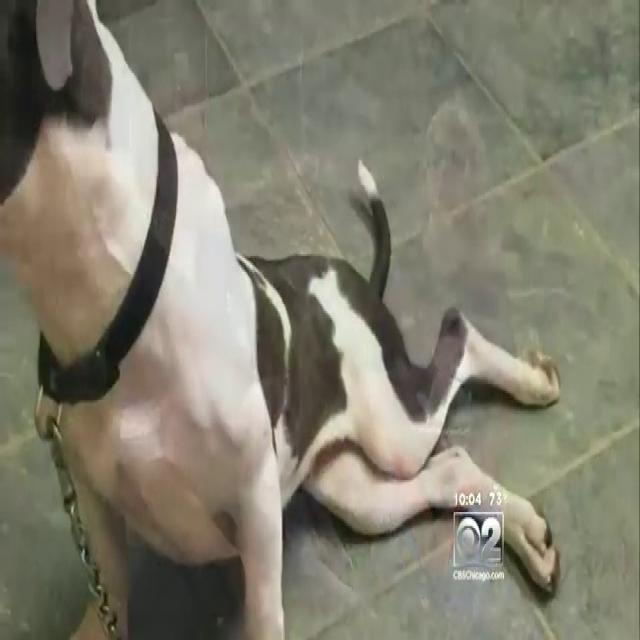normal_animals: (3, 3, 565, 633)
